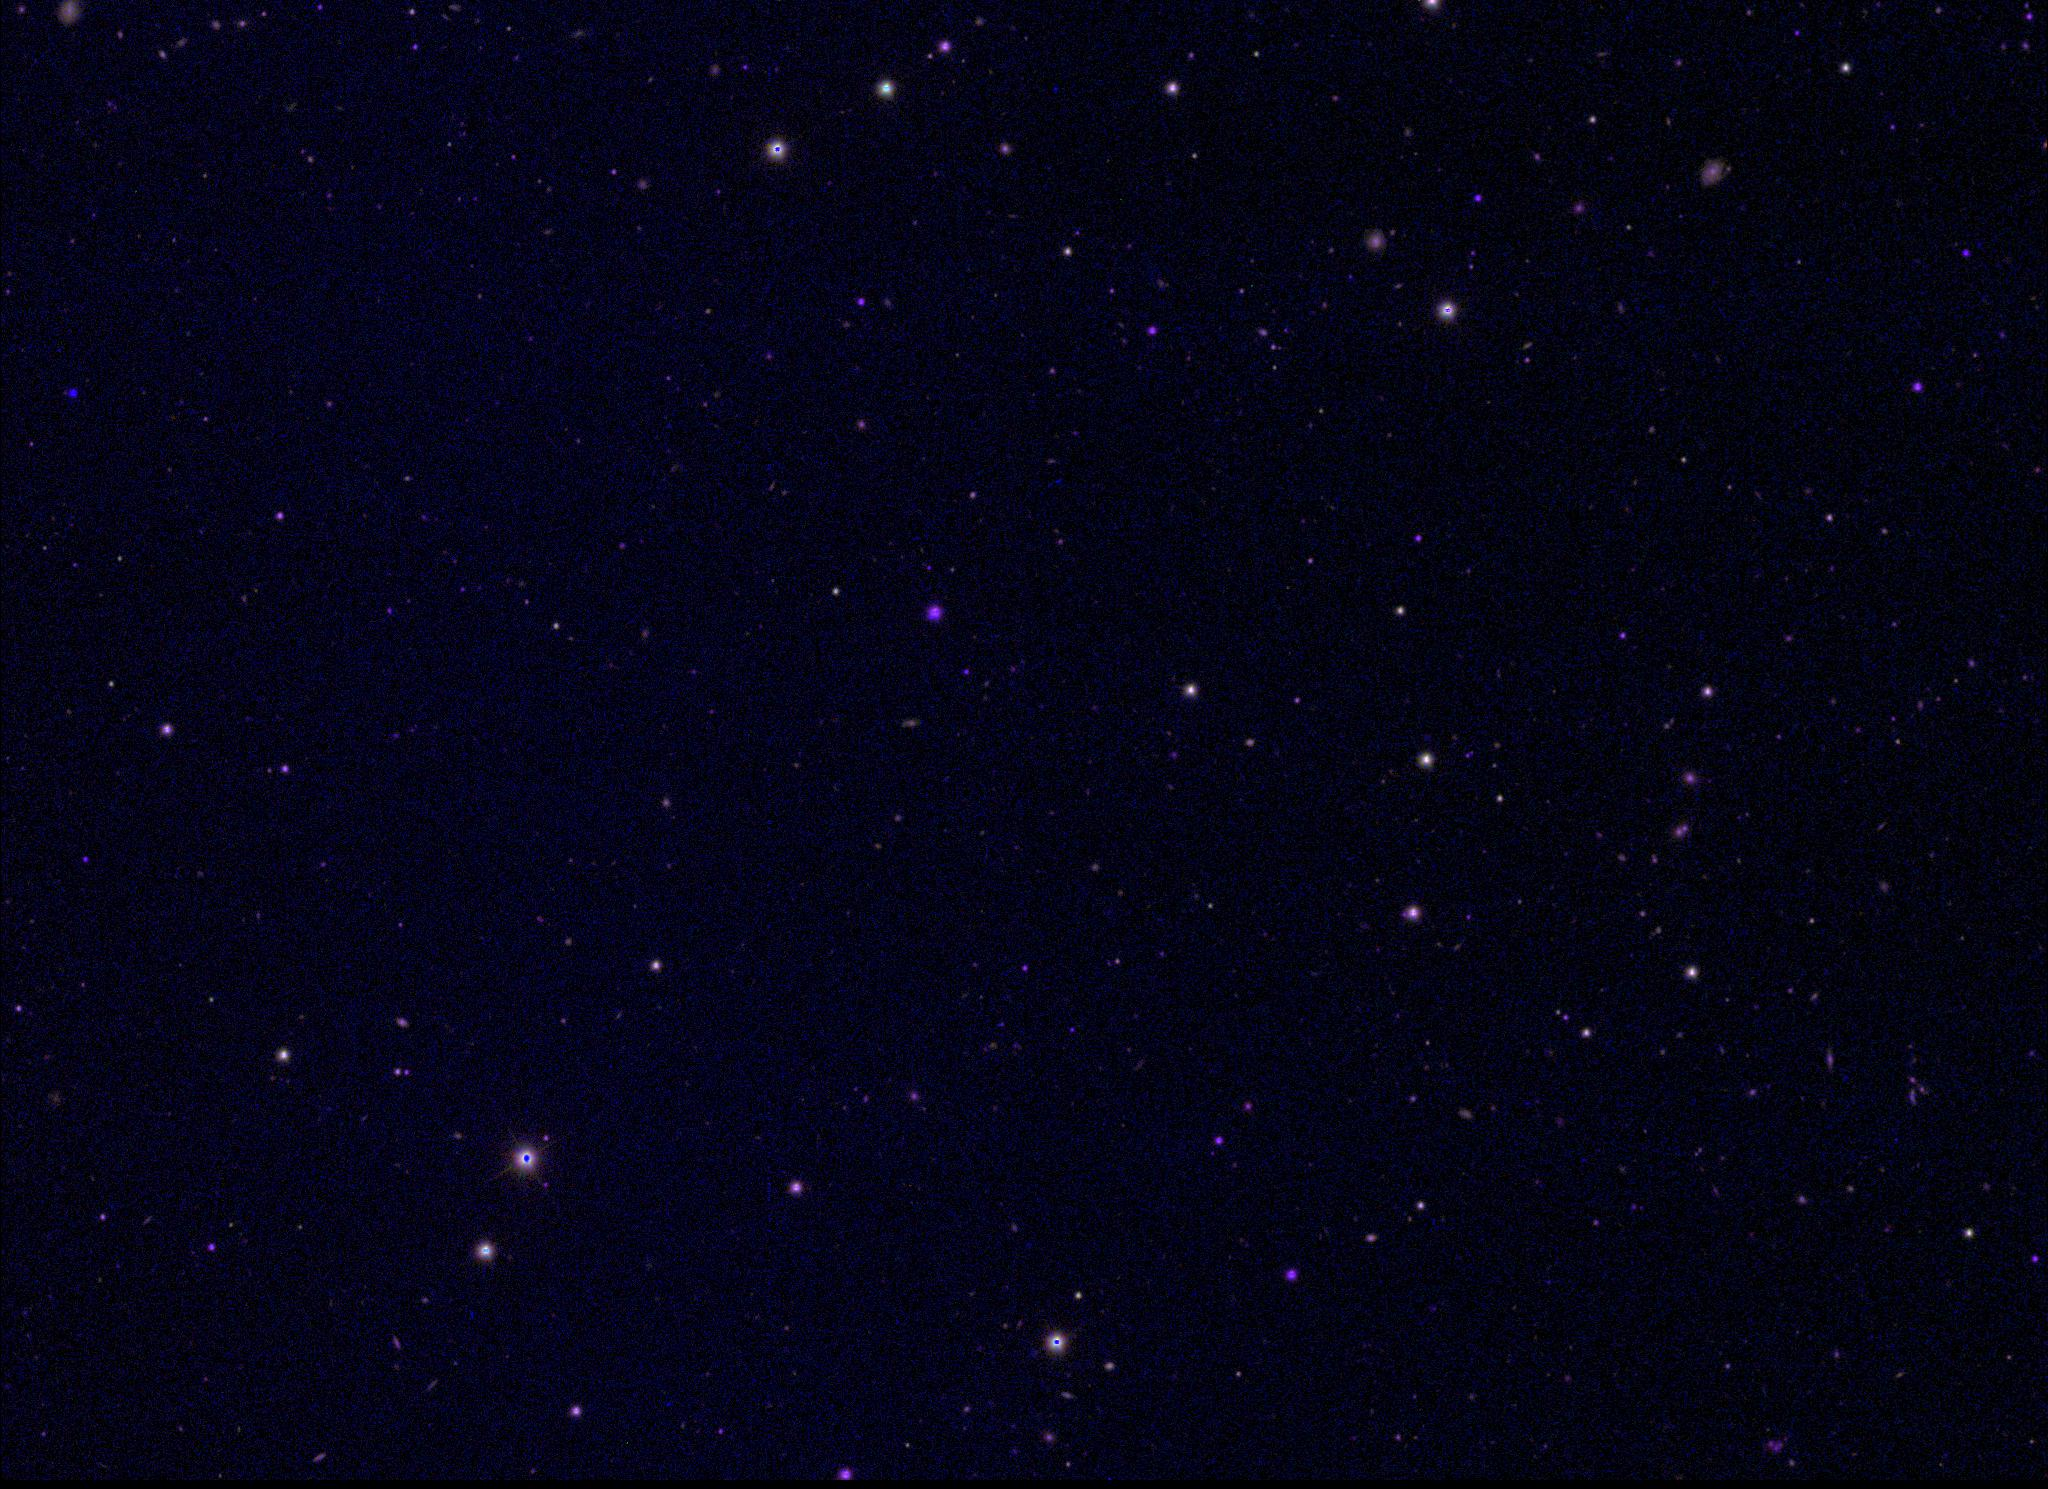L: (65, 387, 80, 399)
